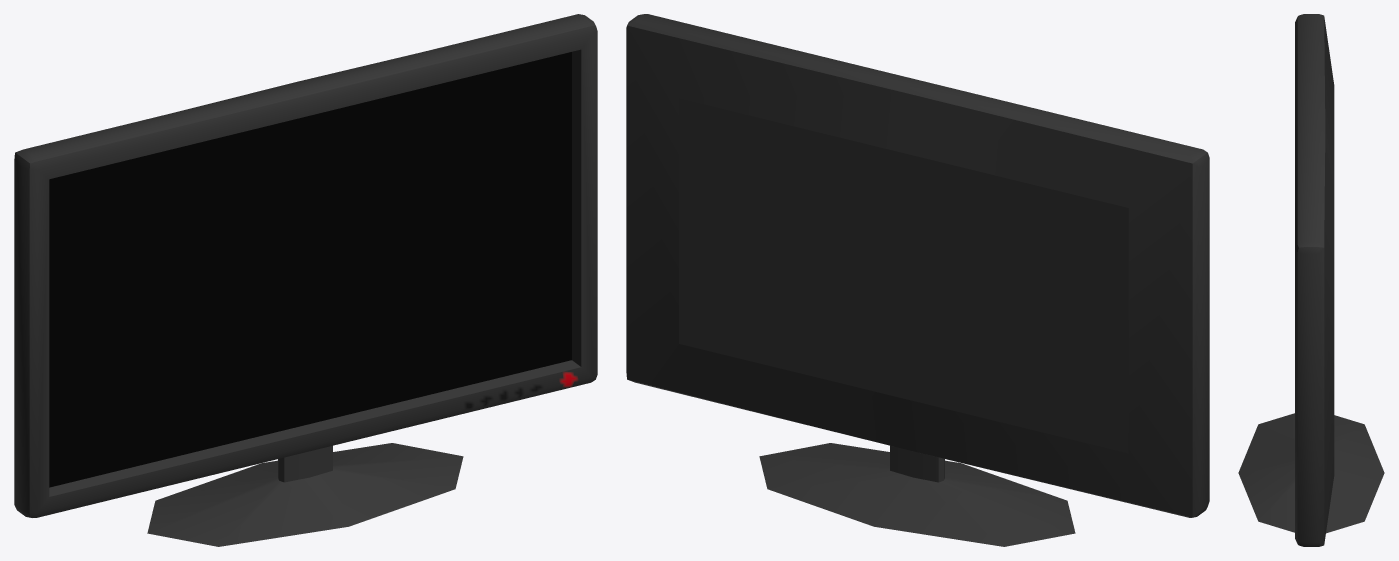
3 views of the same model, side by side, from view 1: azimuth 30°, elevation 25°; view 2: azimuth 150°, elevation 25°; view 3: azimuth 270°, elevation 25° (orthographic). The views are drawn at different scales.
Visible parts, largest first — view 1: TV; view 2: TV; view 3: TV.
Part boxes in pixels (<box>): TV: <box>14,14,597,546</box>; TV: <box>626,14,1209,546</box>; TV: <box>1238,14,1384,546</box>.
Size of the model in its own units: 200 by 137 by 52.52.
